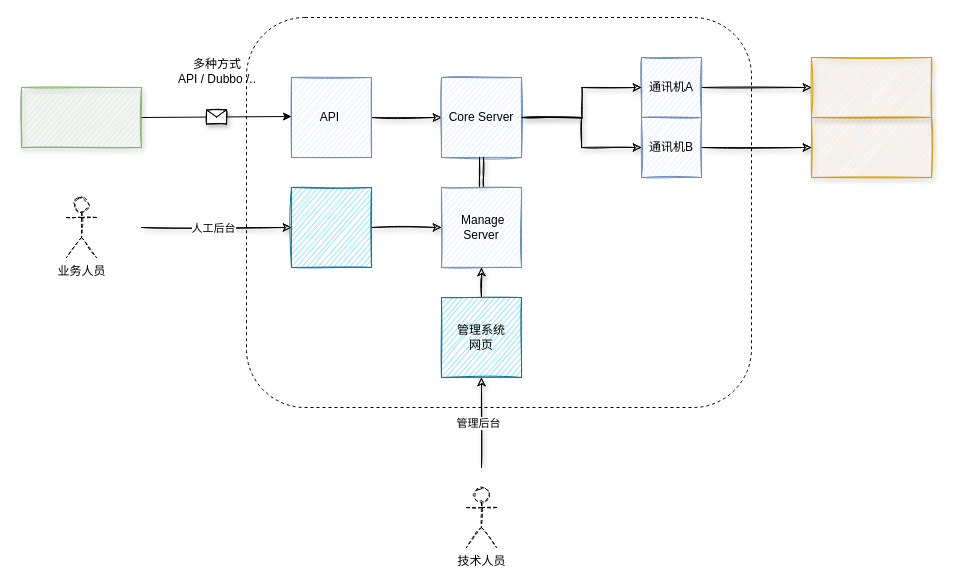
Image size: 955x586. Some labels were removed from this diagram. Each missing label, with the centre of its shape:
"业务系统" belongs at point 82,118.
"业务系统 网页" belongs at point 331,227.
"渠道商A" belongs at point 872,88.
"渠道商B" belongs at point 872,148.
